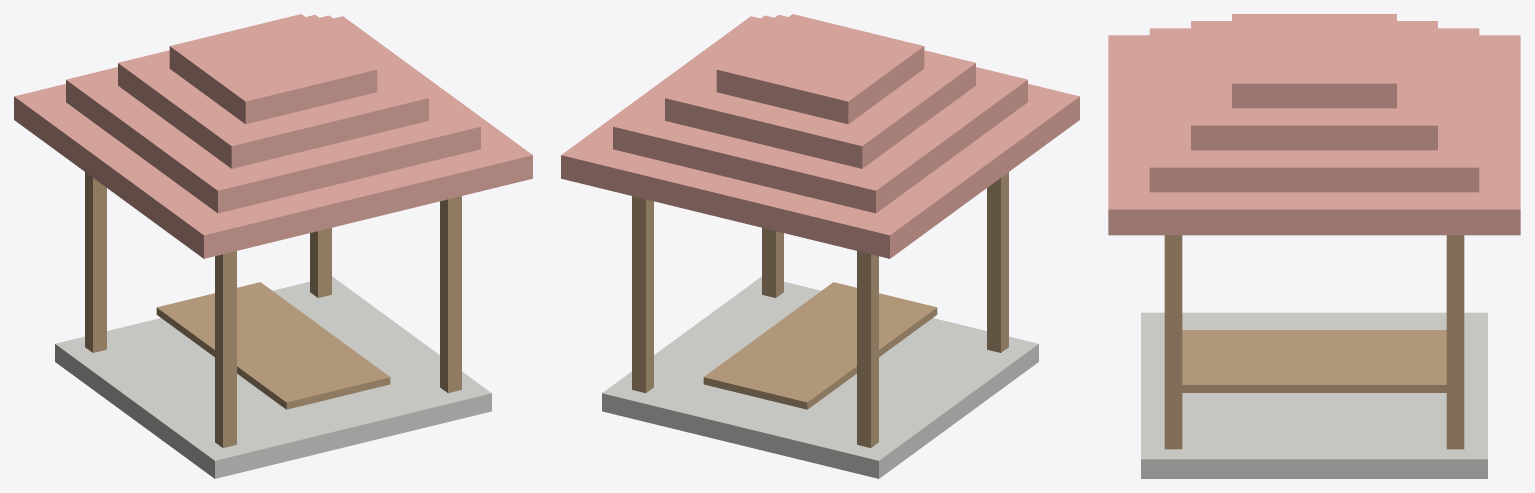
Rendered from Prop_Pavilion.fbx.
3 renders of one model, left to right at view 1: azimuth 30°, elevation 25°; view 2: azimuth 150°, elevation 25°; view 3: azimuth 270°, elevation 25°, orthographic. The views are drawn at different scales.
Parts seen in each view (by area): view 1: Prop_Pavilion; view 2: Prop_Pavilion; view 3: Prop_Pavilion.
Part boxes in pixels (box(x1,y1,x2,y2)): Prop_Pavilion: box(14, 14, 532, 478); Prop_Pavilion: box(561, 14, 1079, 478); Prop_Pavilion: box(1108, 14, 1520, 478).
Size of the model in its own units: 3.8 by 3.63 by 3.8.
